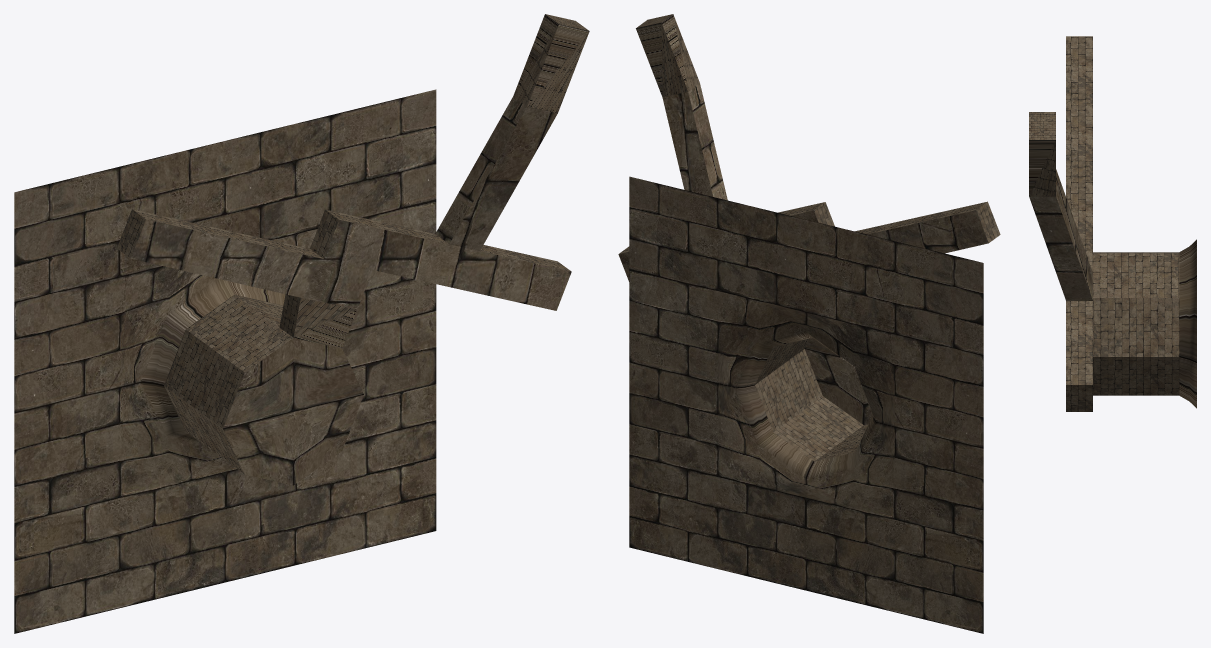
File: ground.dae
3 renders of one model, left to right at view 1: azimuth 30°, elevation 25°; view 2: azimuth 150°, elevation 25°; view 3: azimuth 270°, elevation 25°, orthographic. The views are drawn at different scales.
Visible parts, largest first — view 1: Cube.003; view 2: Cube.003; view 3: Cube.003.
Boxes of the visible parts, x1,y1,x2,y2 form: Cube.003: (14,14,589,633); Cube.003: (618,14,1000,633); Cube.003: (1029,36,1196,411).
Bounding box in the file's own units: 26.03 × 8.08 × 28.59.
1 material, 1 textured.
